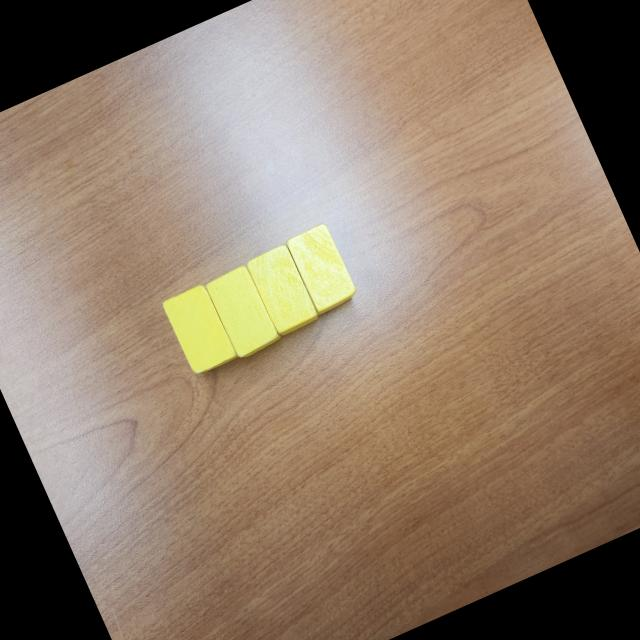yellow: (204, 264, 284, 362), (161, 282, 241, 379), (244, 242, 322, 340), (285, 222, 360, 317)
